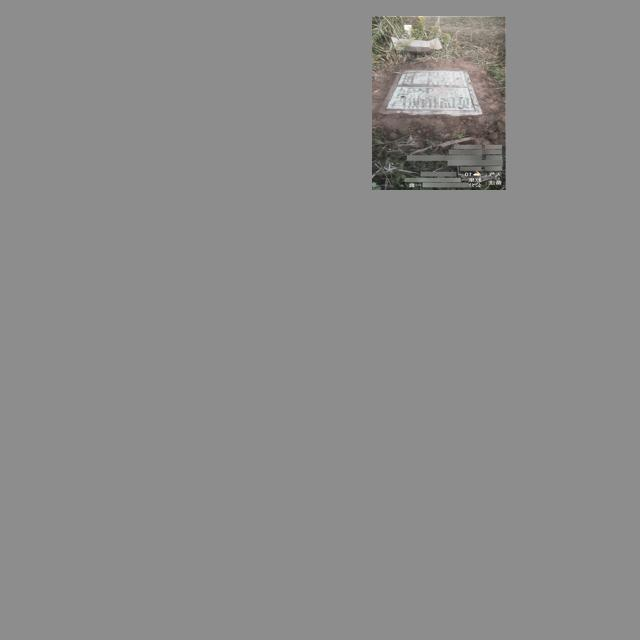good: (386, 67, 481, 115)
